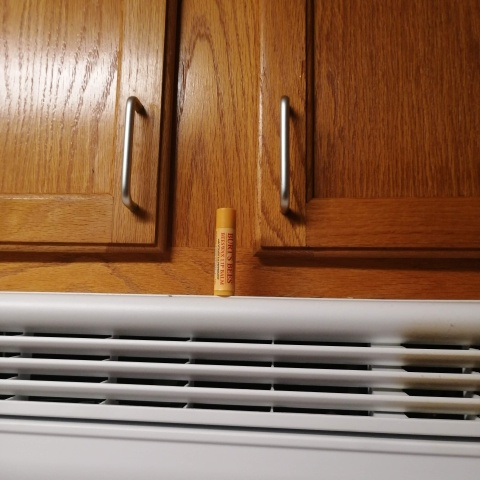chapstick: (212, 207, 238, 298)
